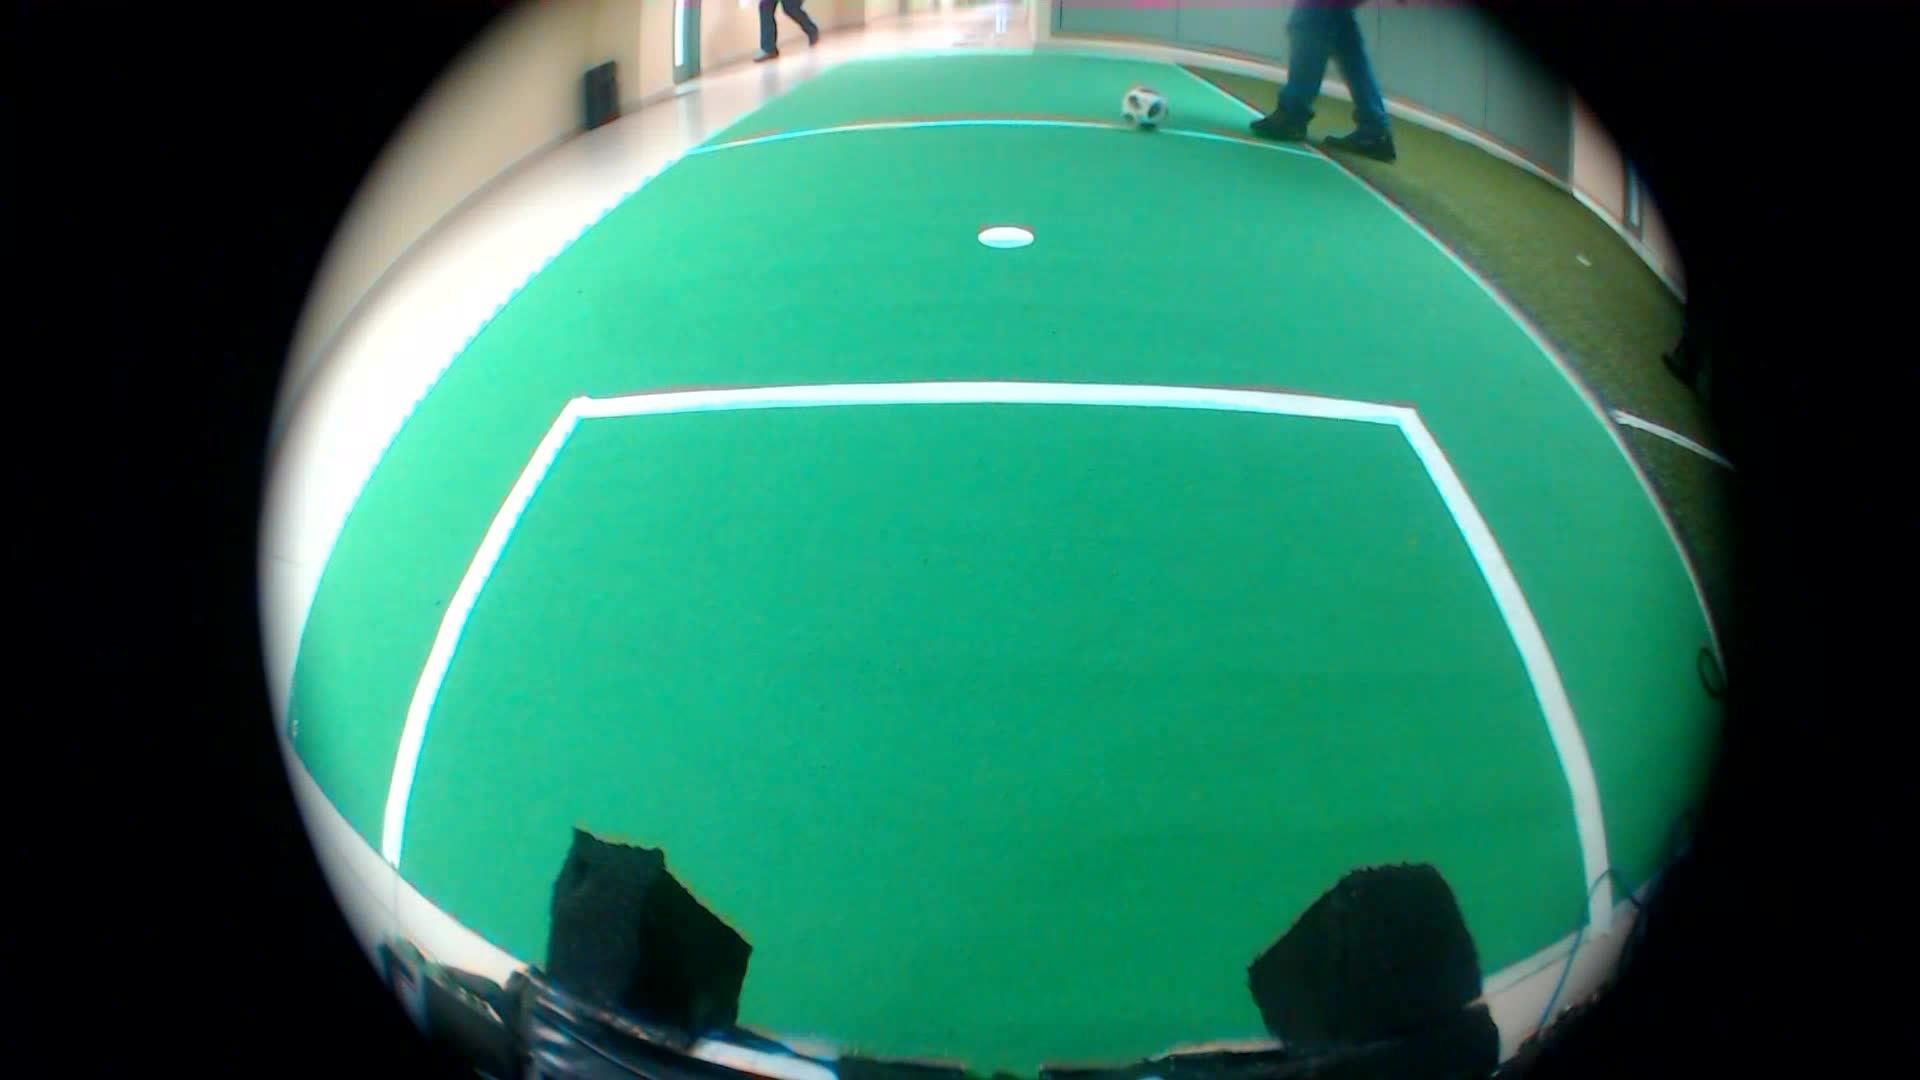ball: (1117, 73, 1172, 142)
